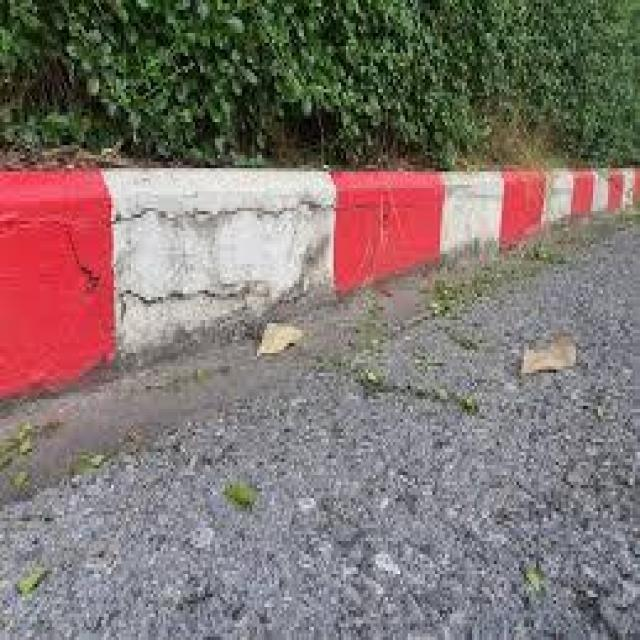curb: (1, 159, 381, 389), (400, 150, 628, 254)
